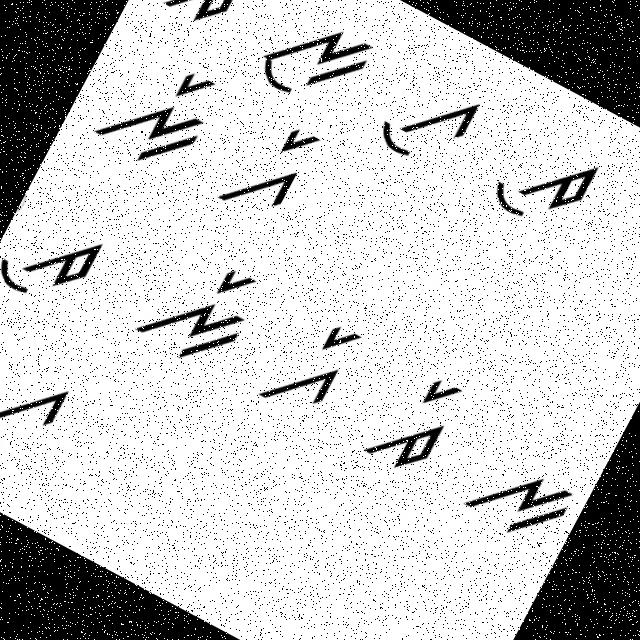gar: (206, 103, 336, 238), (253, 301, 368, 433)
gaw: (354, 56, 484, 188), (0, 340, 86, 483)
nga: (451, 436, 584, 562)
ngar: (82, 32, 231, 186), (125, 240, 275, 390)
ngaw: (236, 0, 377, 126)
tar: (356, 352, 476, 488), (154, 0, 269, 35)
taw: (482, 120, 606, 245), (0, 200, 111, 323)
